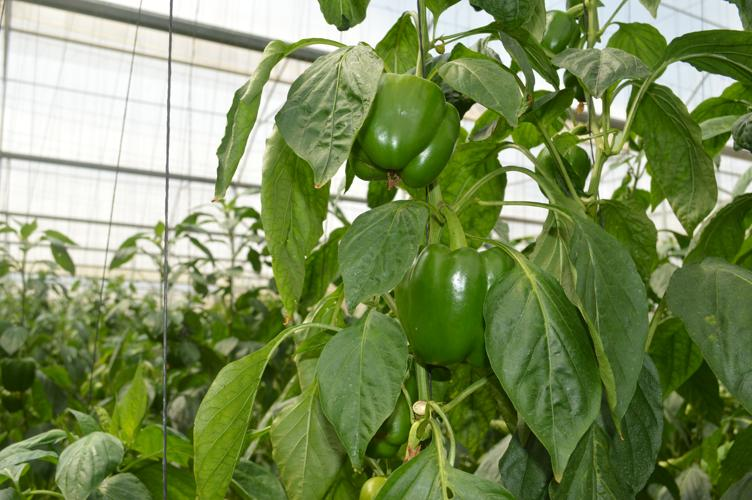BellPepper: (386, 243, 516, 370), (354, 74, 457, 188), (359, 382, 416, 456), (532, 146, 589, 201)
